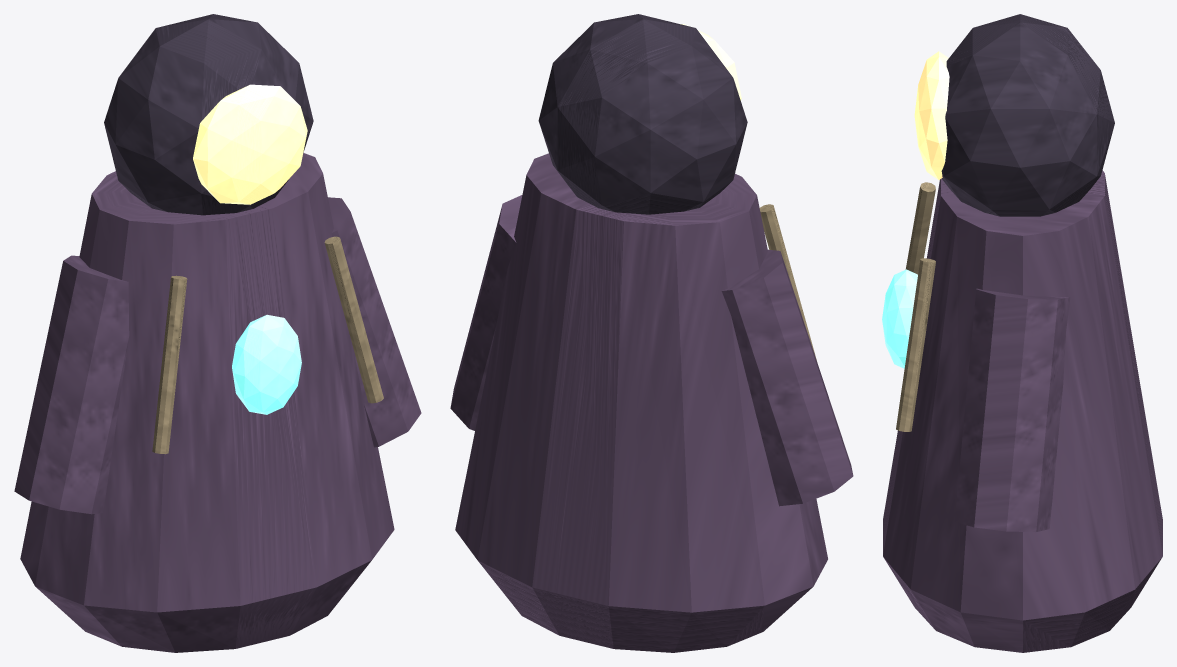
The model's file is npc_spirit.glb.
The picture shows the model from 3 angles, left to right: view 1: azimuth 30°, elevation 25°; view 2: azimuth 150°, elevation 25°; view 3: azimuth 270°, elevation 25°; orthographic projection. The views are drawn at different scales.
Visible parts, largest first — view 1: purple, darkcloth, glowgold, gold, glowcyan; view 2: purple, darkcloth, gold; view 3: purple, darkcloth, gold, glowgold, glowcyan.
Part boxes in pixels (x1,y1,x2,y2): purple: [14, 153, 421, 652]; darkcloth: [104, 14, 313, 215]; glowgold: [193, 84, 307, 204]; gold: [152, 236, 383, 454]; glowcyan: [232, 314, 301, 414]; purple: [450, 153, 853, 652]; darkcloth: [538, 14, 747, 214]; gold: [759, 204, 816, 360]; purple: [883, 170, 1162, 652]; darkcloth: [941, 14, 1114, 216]; gold: [896, 182, 935, 431]; glowgold: [914, 51, 949, 179]; glowcyan: [882, 269, 917, 368].
Bounding box in the file's own units: 1.64 × 2.33 × 1.04.
5 materials, 5 textured.
